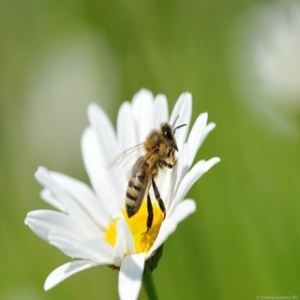bee: (112, 113, 188, 230)
